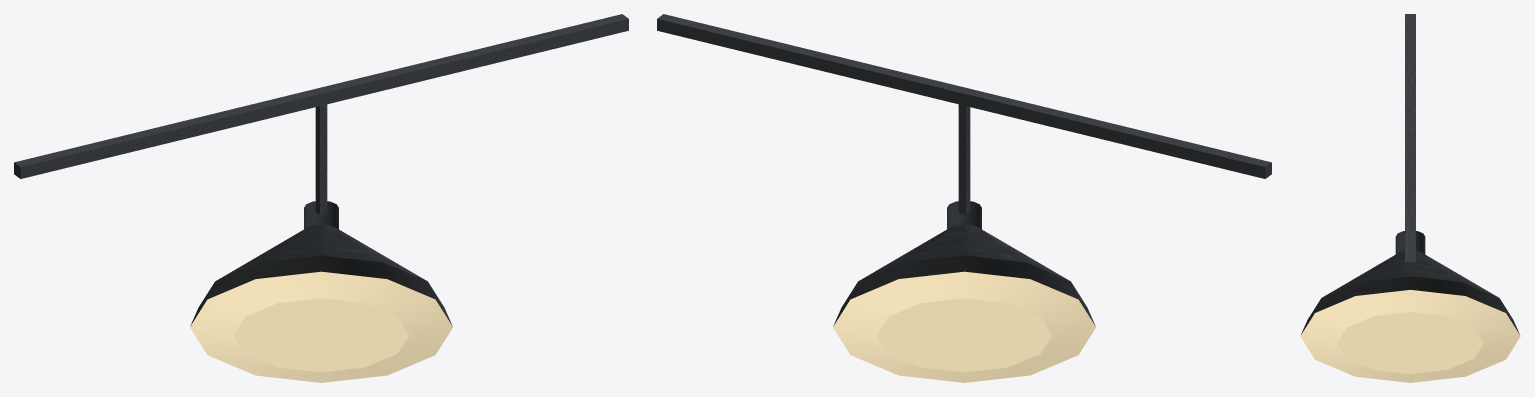
Rendered from seilleuchte_m1b.glb.
3 views of the same model, side by side, from view 1: azimuth 30°, elevation 25°; view 2: azimuth 150°, elevation 25°; view 3: azimuth 270°, elevation 25° (orthographic). The views are drawn at different scales.
Visible parts, largest first — view 1: M1b; view 2: M1b; view 3: M1b.
Part boxes in pixels (box(x1,y1,x2,y2)): M1b: box(14, 14, 628, 382); M1b: box(657, 14, 1271, 382); M1b: box(1300, 14, 1520, 382).
Size of the model in its own units: 1.6 by 0.615 by 0.6.
1 material, 1 textured.
